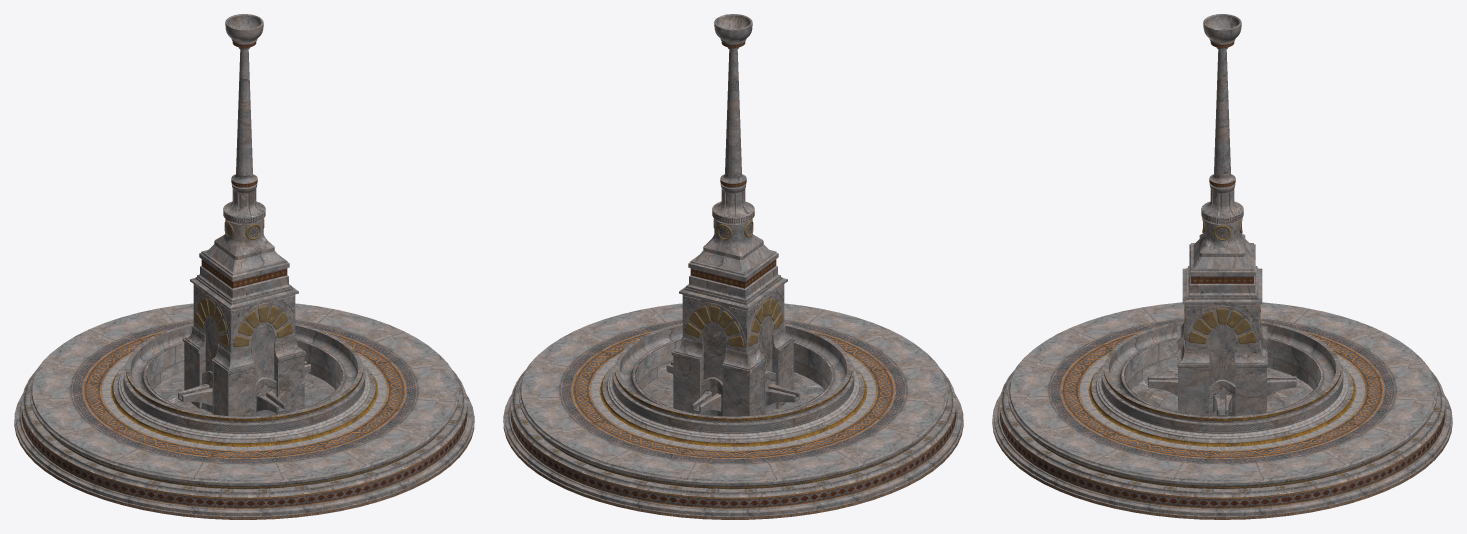
Rendered from SM_PropFountain.fbx.
The picture shows the model from 3 angles, left to right: view 1: azimuth 30°, elevation 25°; view 2: azimuth 150°, elevation 25°; view 3: azimuth 270°, elevation 25°; orthographic projection.
Visible parts, largest first — view 1: KB3D_ATL_PropFountain_A_Main; view 2: KB3D_ATL_PropFountain_A_Main; view 3: KB3D_ATL_PropFountain_A_Main.
Part boxes in pixels (x1,y1,x2,y2): KB3D_ATL_PropFountain_A_Main: [14, 14, 474, 519]; KB3D_ATL_PropFountain_A_Main: [503, 14, 963, 519]; KB3D_ATL_PropFountain_A_Main: [992, 14, 1452, 519].
Size of the model in its own units: 1402 by 1347 by 1402.
Materials: 8 (8 with a texture image).
